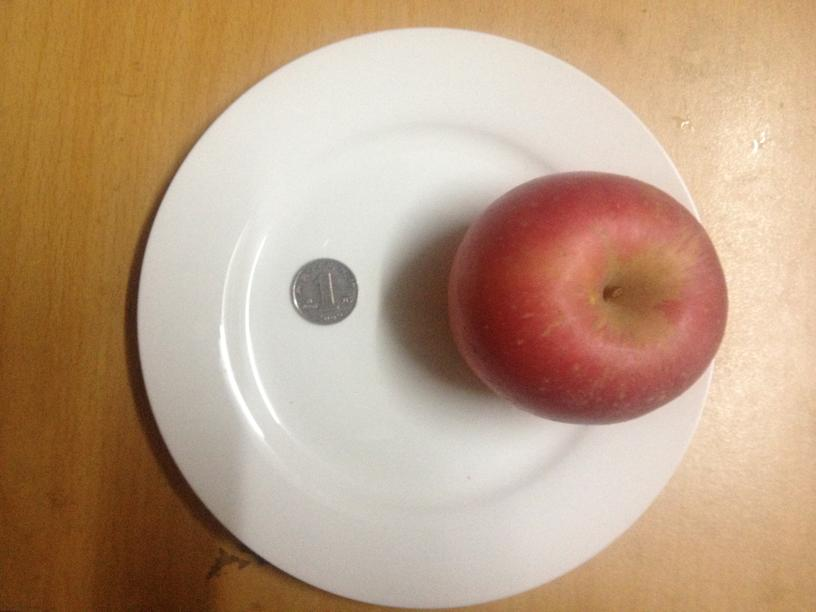apple: (455, 166, 729, 427)
coin: (288, 257, 358, 328)
